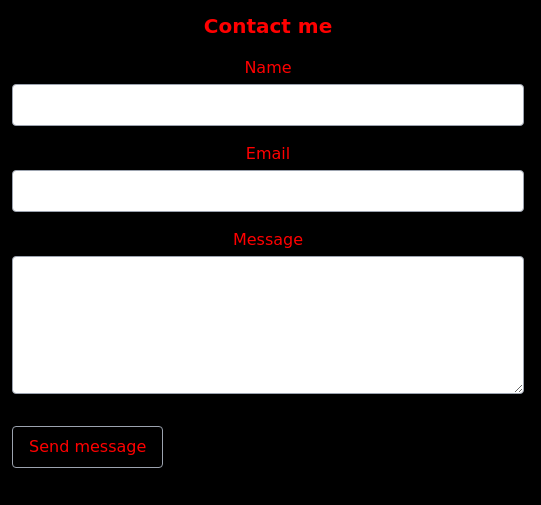
Contact me › posts the fields as JSON to the configured URL
This screenshot has width=541, height=505.
Type "Visitor" into the field labelled "Name" at (268, 105), box [12,84,524,126]
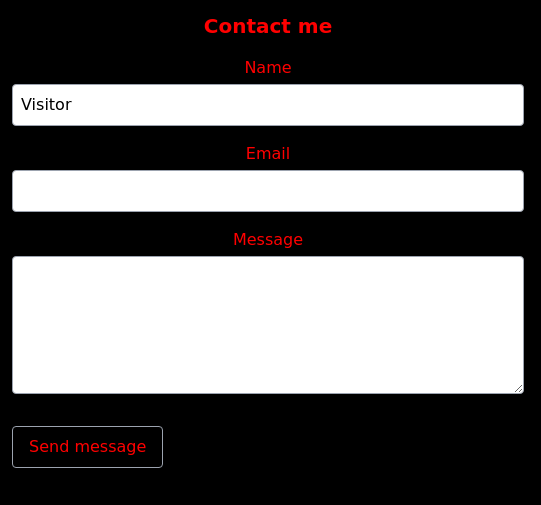
Type "visitor@example.com" into the field labelled "Email" at (268, 191), box [12,170,524,212]
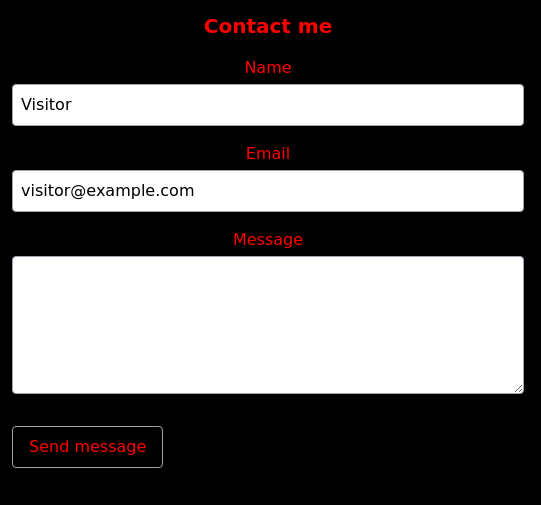
Type "Hello!" into the text box labelled "Message" at (268, 325), box [12,256,524,394]
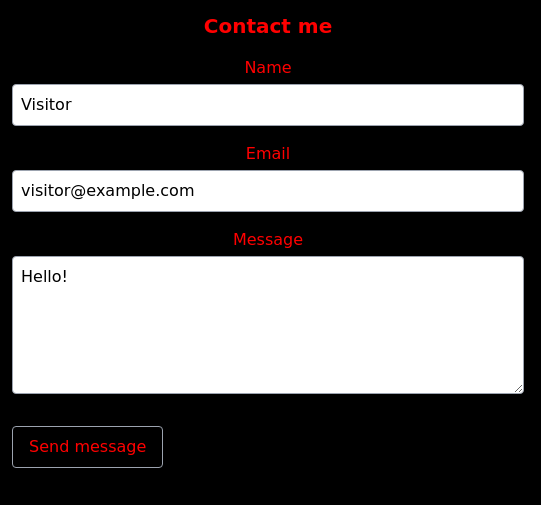
Submit the form "Contact me"
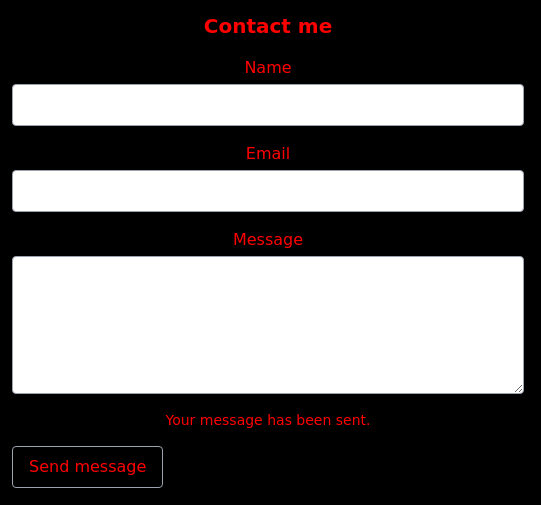
Expected: the text "Your message has been sent." is shown, [166,412,371,428]
